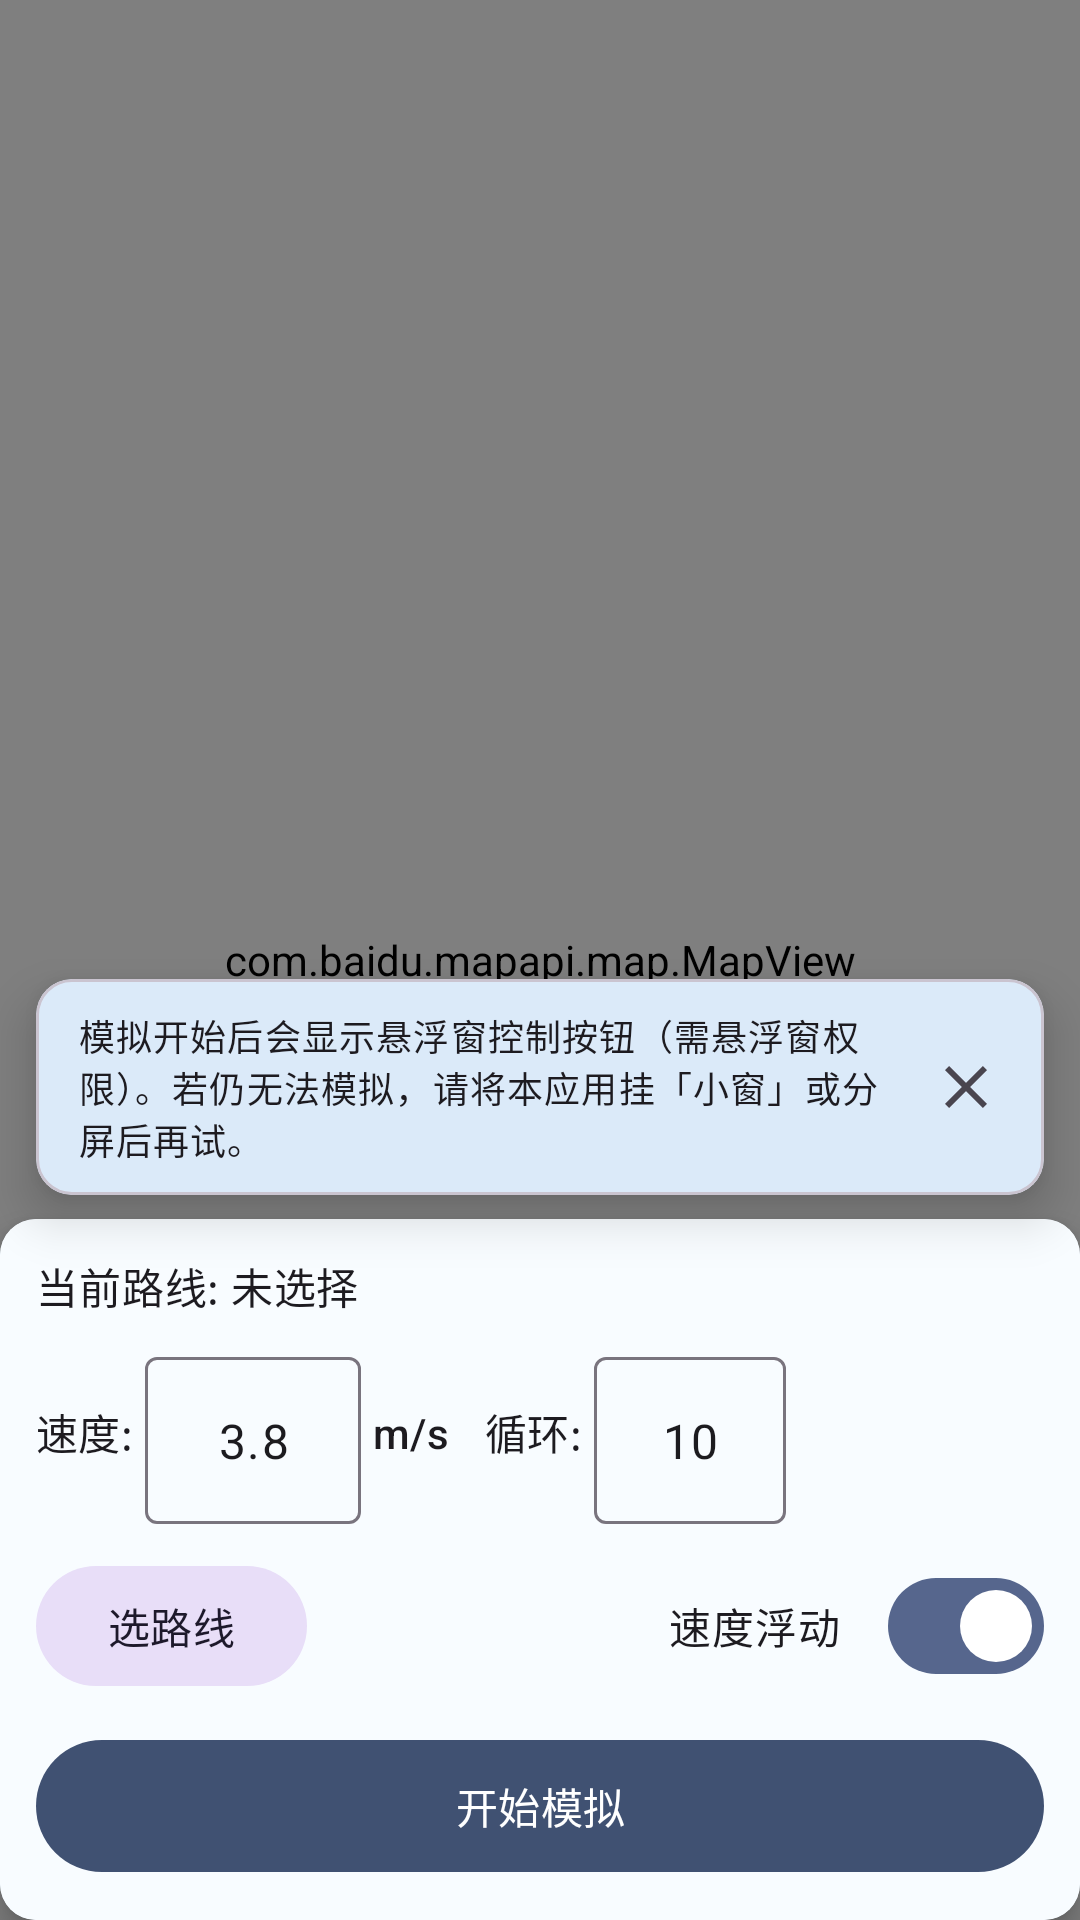

Icon click points for this 1080 x 1920 phone screenshot, format (x,y):
关闭提示: (966,1087)
